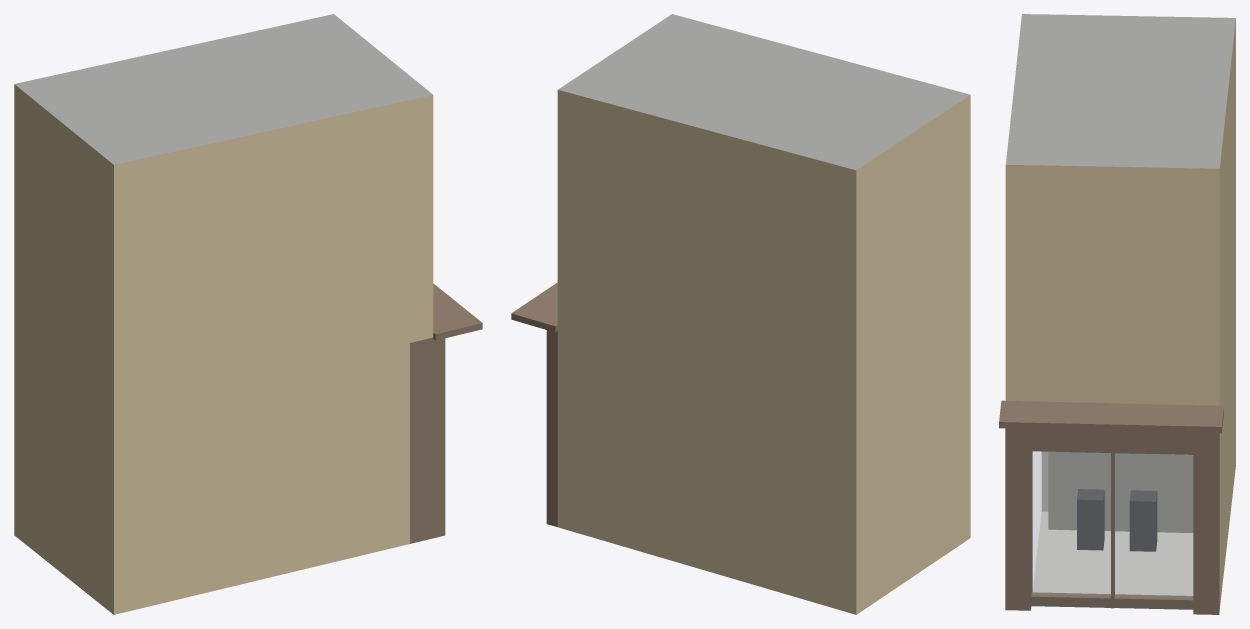
Rendered from d12-nonbei-dfeba0c4-fill.glb.
The picture shows the model from 3 angles, left to right: view 1: azimuth 30°, elevation 25°; view 2: azimuth 150°, elevation 25°; view 3: azimuth 270°, elevation 25°; orthographic projection.
Parts seen in each view (by area): view 1: INFERRED_ground.001; view 2: INFERRED_ground.001; view 3: INFERRED_ground.001.
Part boxes in pixels (box(x1,y1,x2,y2)): INFERRED_ground.001: box(14, 14, 482, 614); INFERRED_ground.001: box(511, 14, 970, 614); INFERRED_ground.001: box(999, 14, 1235, 614).
Size of the model in its own units: 4.76 by 5.62 by 2.69.
Materials: 3 (1 with a texture image).
